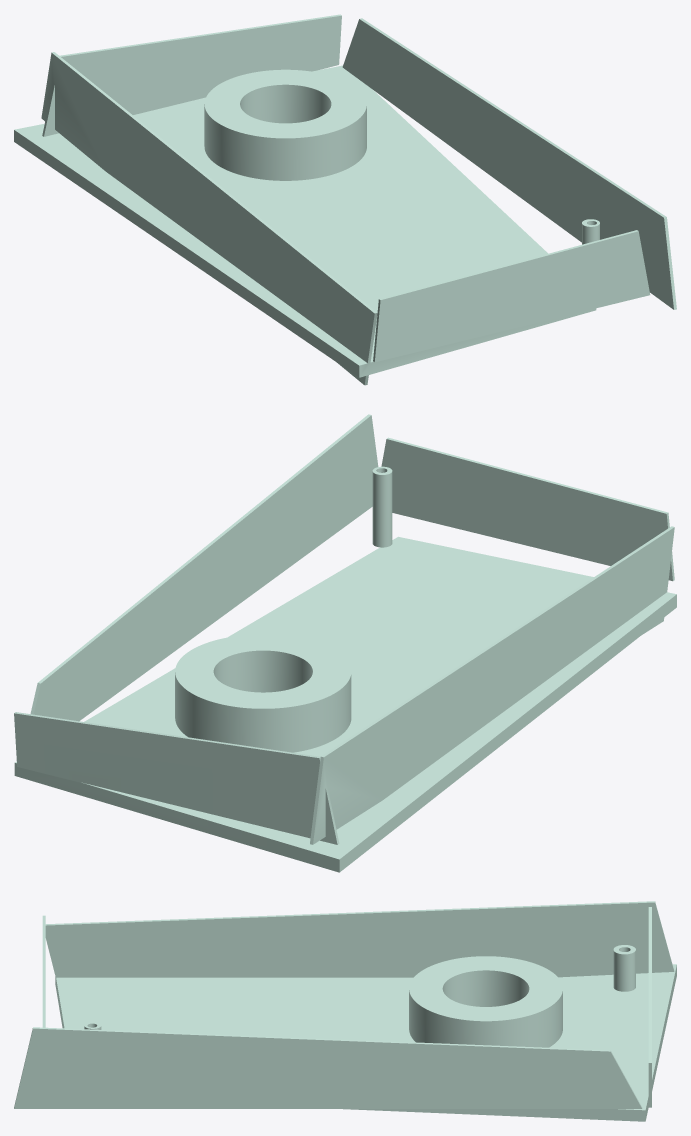
3 views of the same model, one above another, from view 1: azimuth 30°, elevation 25°; view 2: azimuth 150°, elevation 25°; view 3: azimuth 270°, elevation 25° (orthographic). The views are drawn at different scales.
Parts seen in each view (by area): view 1: Renderer Node; view 2: Renderer Node; view 3: Renderer Node.
Boxes of the visible parts, x1=… form: Renderer Node: x1=14, y1=14, x2=676, y2=385; Renderer Node: x1=14, y1=414, x2=676, y2=872; Renderer Node: x1=14, y1=901, x2=676, y2=1121.
Size of the model in its own units: 0.8503 by 0.2817 by 1.63.
